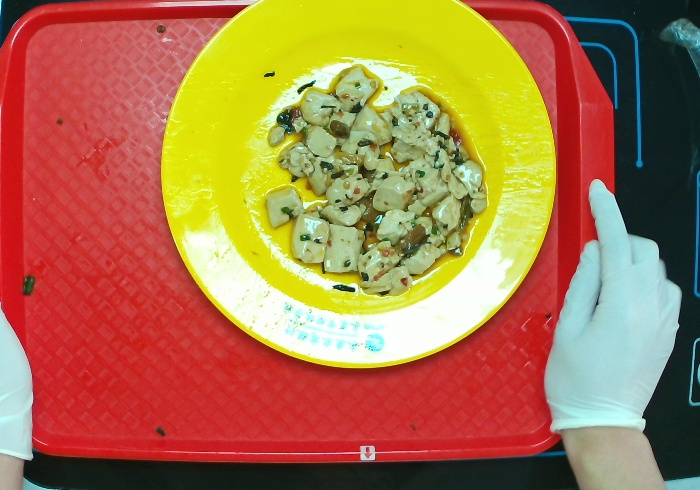YKMZ-Huang_Se_Mian_Pan: (159, 1, 559, 371)
